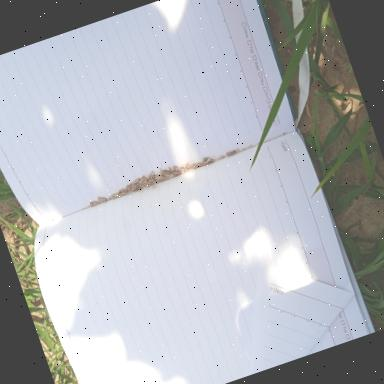pbw: (158, 167, 172, 178), (146, 169, 158, 180), (164, 170, 176, 180), (203, 155, 214, 165), (124, 182, 134, 192), (171, 168, 182, 177), (154, 174, 165, 182), (144, 177, 156, 184), (130, 178, 140, 186), (130, 184, 140, 192), (89, 199, 100, 206), (97, 195, 108, 202), (138, 175, 146, 184), (225, 150, 237, 156), (185, 162, 194, 170), (143, 181, 153, 188), (118, 188, 126, 195), (119, 191, 127, 196)
